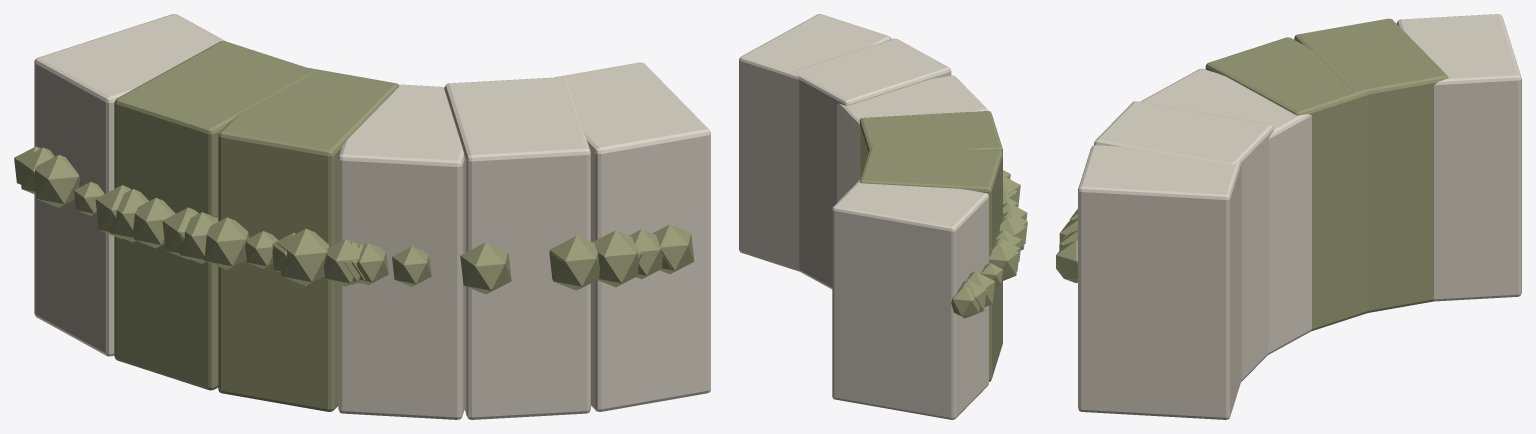
Rendered from PondCorner.fbx.
3 renders of one model, left to right at view 1: azimuth 30°, elevation 25°; view 2: azimuth 150°, elevation 25°; view 3: azimuth 270°, elevation 25°, orthographic. The views are drawn at different scales.
Parts seen in each view (by area): view 1: PondCorner; view 2: PondCorner; view 3: PondCorner.
Boxes of the visible parts, bbox=[...] form: PondCorner: bbox=[14, 14, 710, 419]; PondCorner: bbox=[739, 14, 1027, 419]; PondCorner: bbox=[1056, 14, 1521, 419].
Size of the model in its own units: 1.37 by 0.7291 by 1.36.
